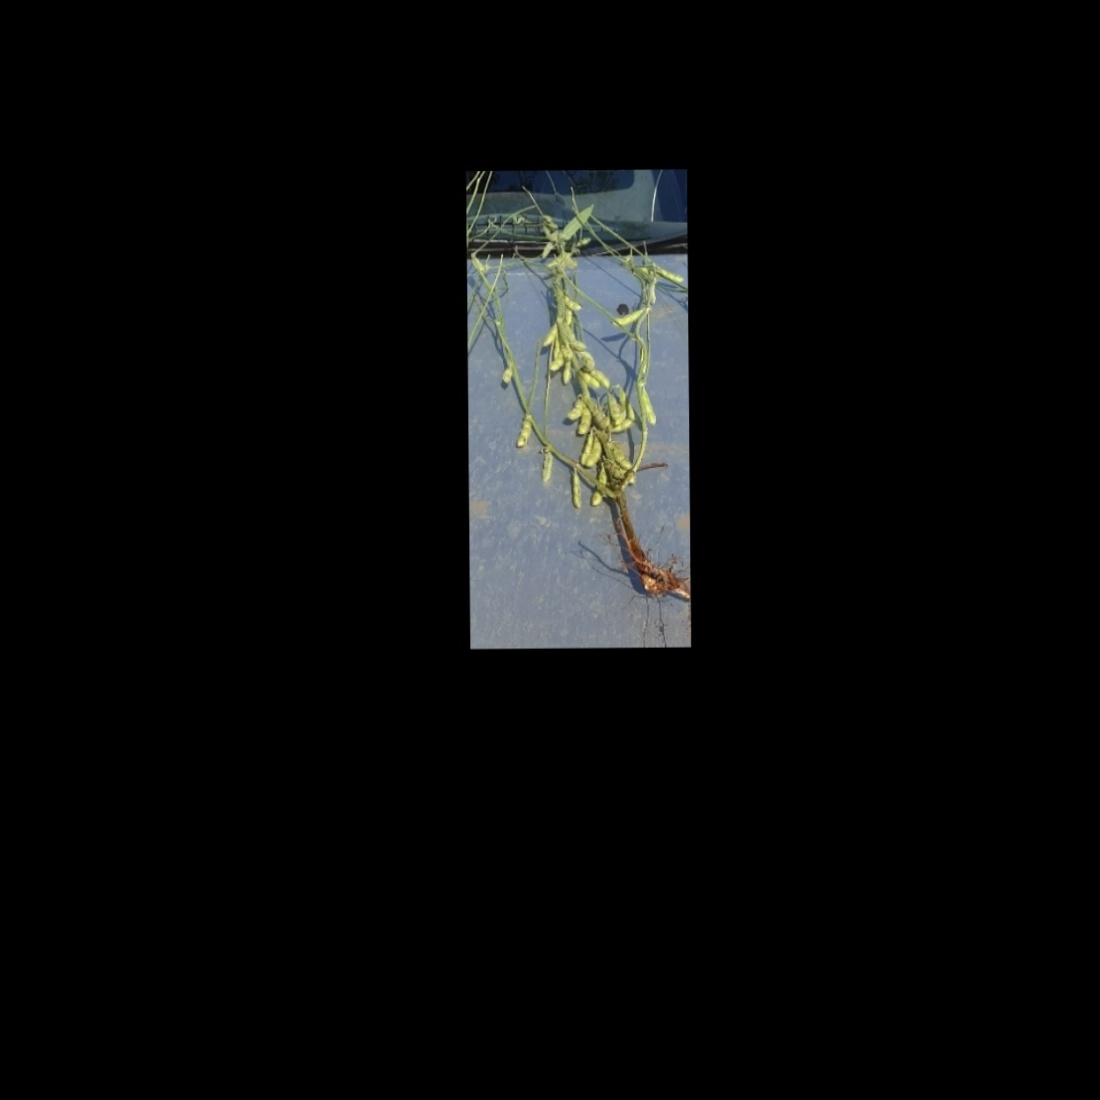pod: (639, 384, 659, 427), (514, 412, 535, 451), (569, 464, 584, 510), (573, 404, 595, 434), (609, 310, 647, 327), (563, 396, 587, 419), (538, 447, 554, 482)
soy: (472, 199, 685, 612)
